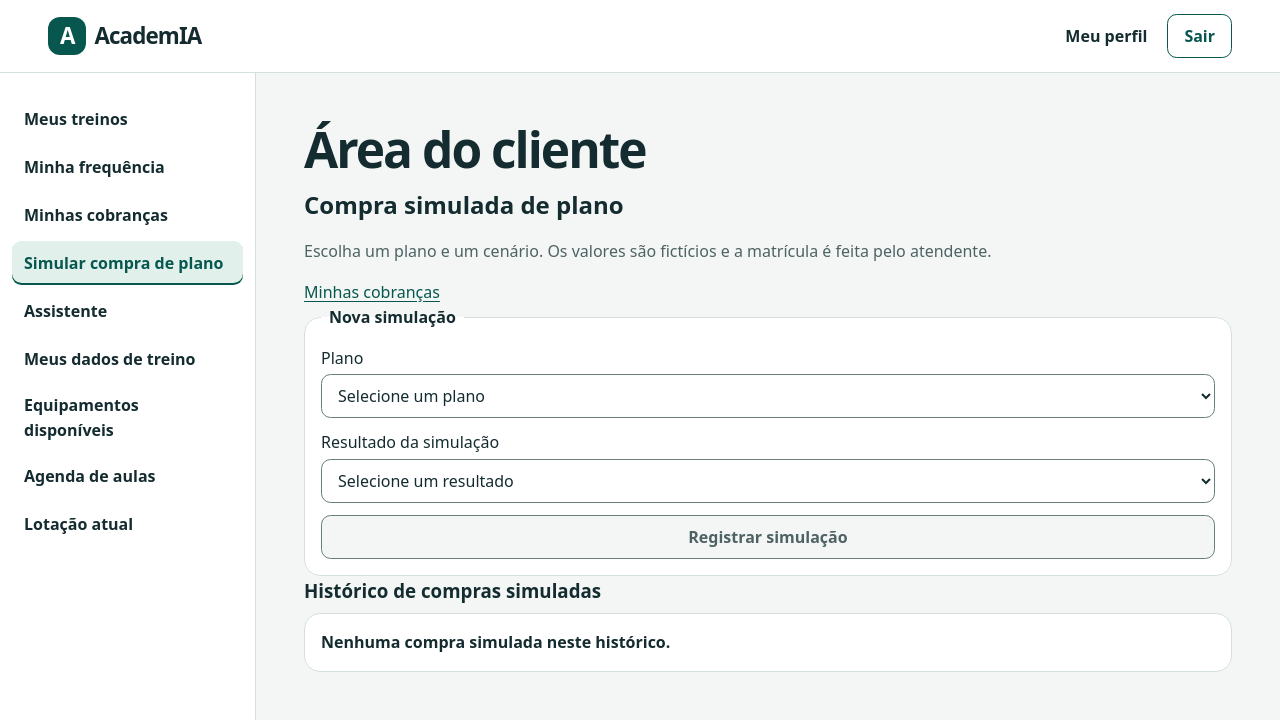
simula a própria compra e reutiliza o ID se o primeiro recibo não chegar
The width and height of the screenshot is (1280, 720).
Later steps or results of the test are not shown.
Expected: the heading "Compra simulada de plano" is shown, [304,188,624,221]
Select "Plano mensal · Musculação · R$ 129,90" in the dropdown labelled "Plano": {"x": 768, "y": 396} [321,374,1215,418]
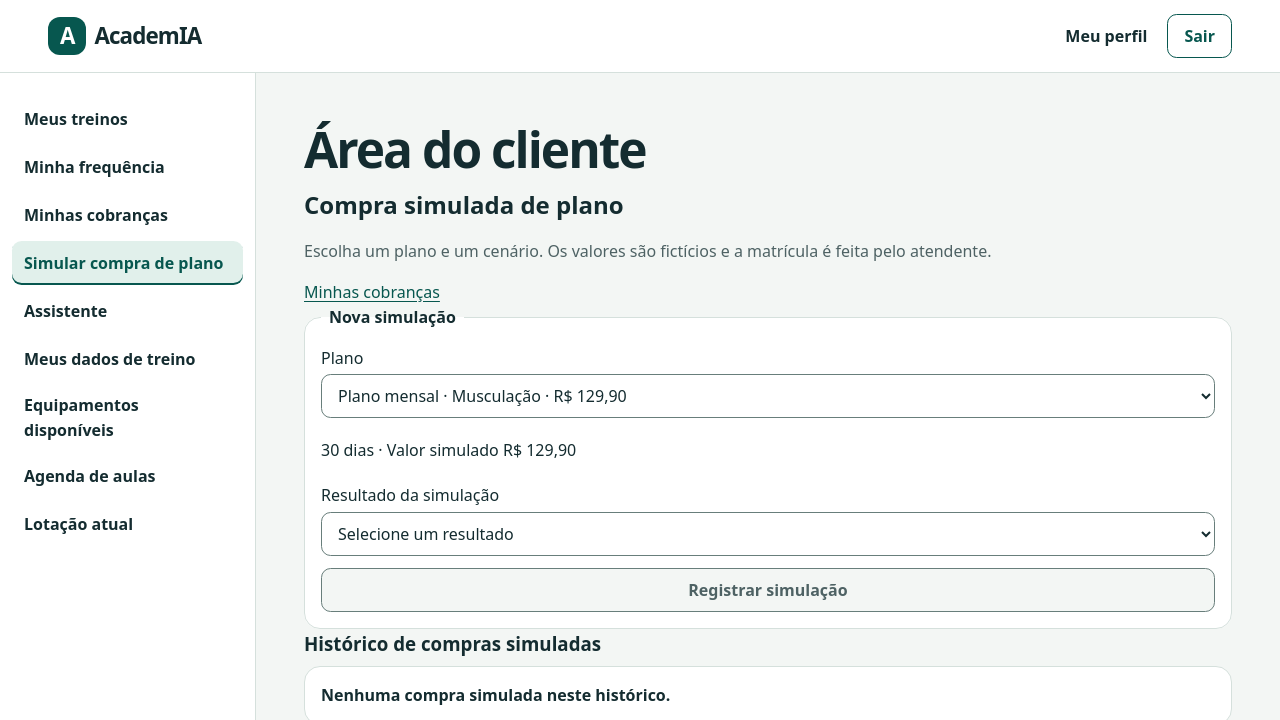
Select "Recusado" in the dropdown labelled "Resultado da simulação": {"x": 768, "y": 534} [321,512,1215,556]
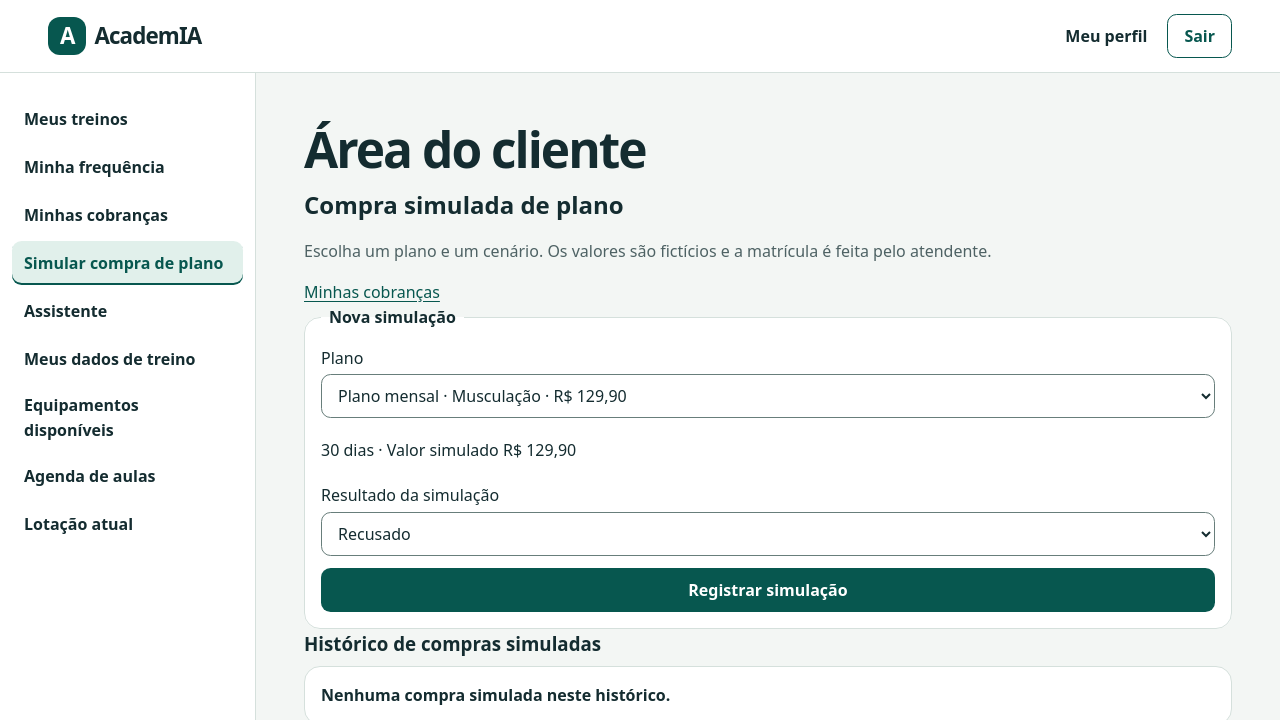
Click the button "Registrar simulação": {"x": 768, "y": 590} [321,568,1215,612]
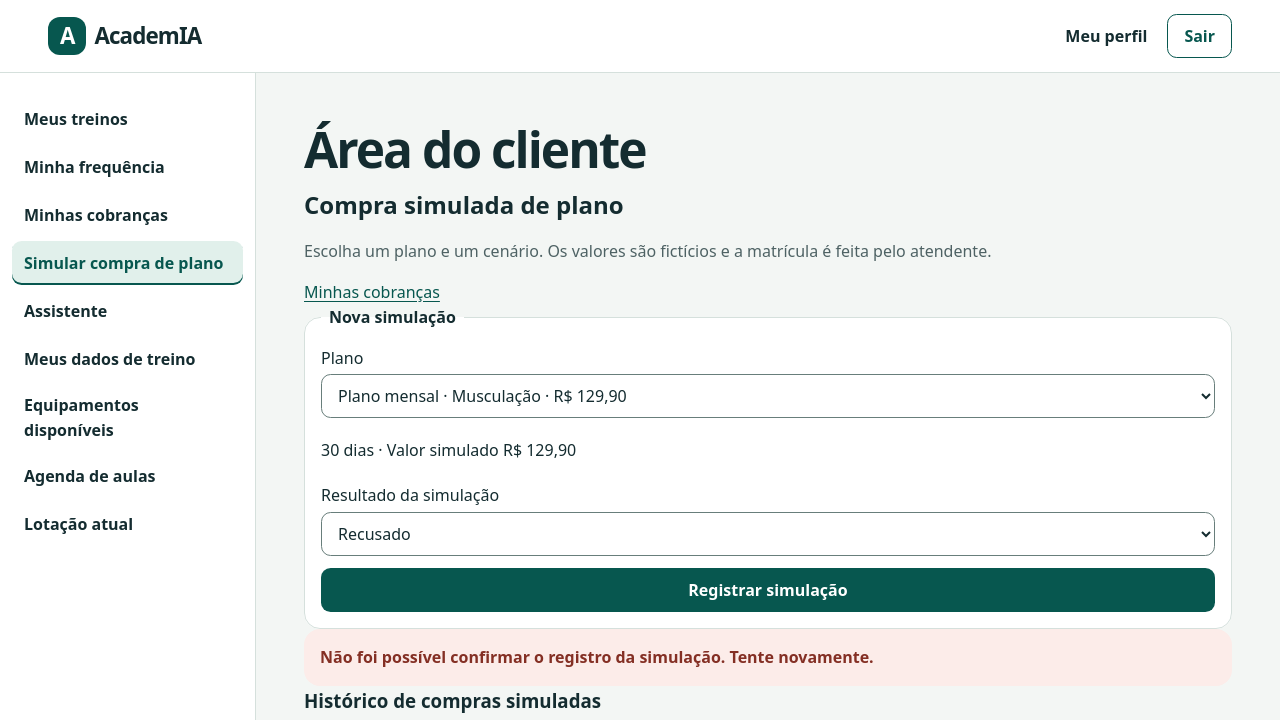
Expected: the text "Não foi possível confirmar o registro" is shown, [320,646,874,668]
